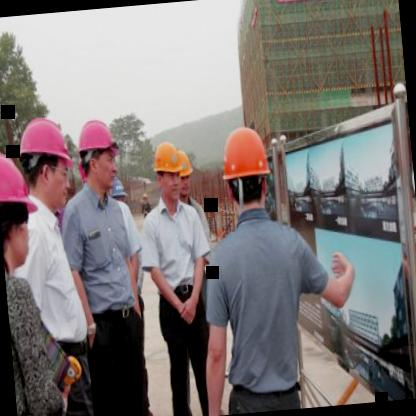helmet: (214, 122, 278, 228), (14, 114, 75, 215), (0, 142, 44, 275), (74, 112, 121, 196), (149, 136, 187, 206), (174, 150, 197, 203)
